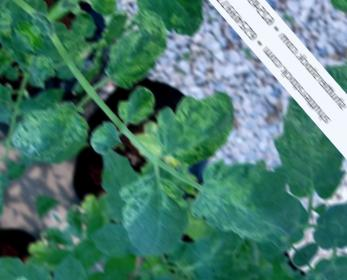Tomato leaf mosaic virus: (179, 131, 328, 280), (97, 156, 213, 271), (141, 68, 255, 181), (2, 79, 113, 188), (90, 1, 184, 93), (125, 0, 218, 52), (113, 76, 170, 132), (86, 115, 132, 161)
